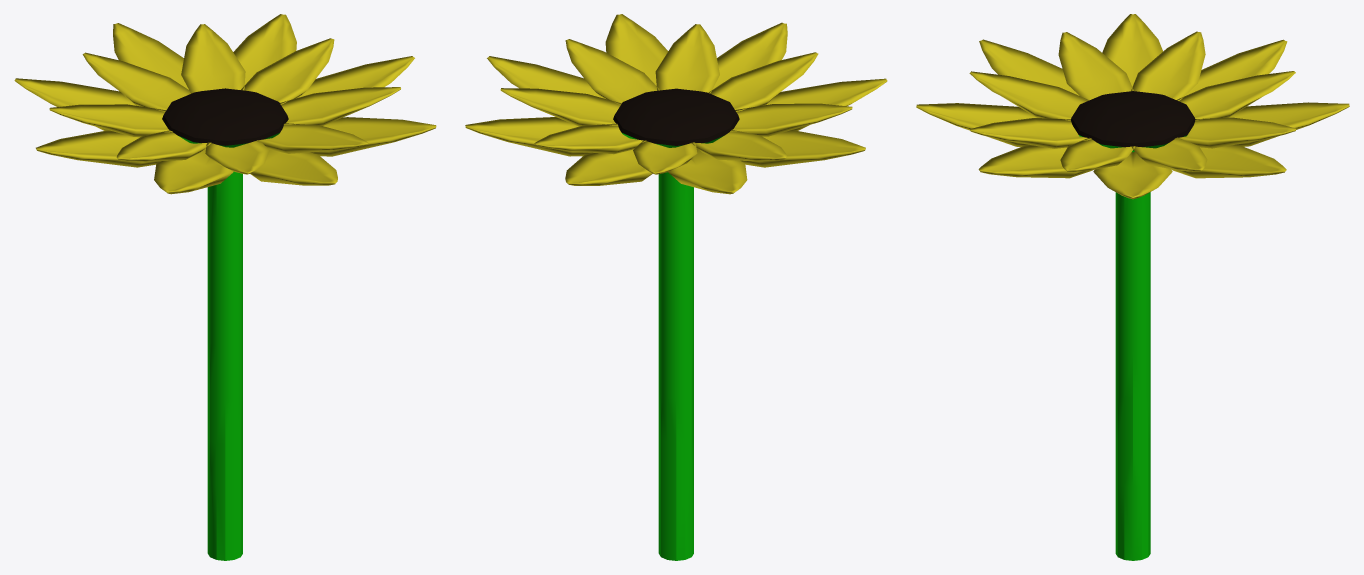
Rendered from flowerneck.obj.
3 renders of one model, left to right at view 1: azimuth 30°, elevation 25°; view 2: azimuth 150°, elevation 25°; view 3: azimuth 270°, elevation 25°, orthographic.
Parts seen in each view (by area): view 1: Zylinder, Blatt.012, Blatt.013, Blatt.011, Blatt.014, Blatt.010, Blatt.003, Blatt.004, Blatt.001, Blatt.007, Blatt.006, Blatt.015 (+5 smaller); view 2: Zylinder, Blatt.015, Blatt.014, Blatt.016, Blatt.013, Blatt.009, Blatt.006, Blatt.007, Blatt.001, Blatt.003, Blatt.004, Blatt.002 (+5 smaller); view 3: Zylinder, Blatt.010, Blatt.009, Blatt.016, Blatt.011, Blatt.012, Blatt.015, Blatt.001, Blatt.006, Blatt.004, Blatt.008, Blatt.002 (+5 smaller).
Boxes of the visible parts, x1=… form: Zylinder: x1=162, y1=88, x2=288, y2=560; Blatt.012: x1=181, y1=24, x2=245, y2=93; Blatt.013: x1=241, y1=38, x2=334, y2=104; Blatt.011: x1=82, y1=52, x2=192, y2=111; Blatt.014: x1=280, y1=87, x2=400, y2=125; Blatt.010: x1=49, y1=104, x2=172, y2=137; Blatt.003: x1=113, y1=23, x2=188, y2=89; Blatt.004: x1=233, y1=14, x2=296, y2=84; Blatt.001: x1=36, y1=130, x2=159, y2=167; Blatt.007: x1=250, y1=149, x2=337, y2=185; Blatt.006: x1=311, y1=117, x2=436, y2=156; Blatt.015: x1=256, y1=123, x2=368, y2=153; Zylinder: x1=613, y1=88, x2=739, y2=560; Blatt.015: x1=655, y1=24, x2=719, y2=93; Blatt.014: x1=565, y1=39, x2=659, y2=104; Blatt.016: x1=708, y1=52, x2=818, y2=111; Blatt.013: x1=500, y1=88, x2=621, y2=126; Blatt.009: x1=730, y1=103, x2=852, y2=136; Blatt.006: x1=605, y1=14, x2=668, y2=85; Blatt.007: x1=712, y1=22, x2=787, y2=89; Blatt.001: x1=740, y1=130, x2=865, y2=167; Blatt.003: x1=565, y1=149, x2=652, y2=185; Blatt.004: x1=465, y1=117, x2=591, y2=156; Blatt.002: x1=668, y1=147, x2=747, y2=194; Zylinder: x1=1071, y1=91, x2=1195, y2=560; Blatt.010: x1=1131, y1=31, x2=1205, y2=100; Blatt.009: x1=1058, y1=32, x2=1133, y2=101; Blatt.016: x1=969, y1=71, x2=1088, y2=120; Blatt.011: x1=1176, y1=71, x2=1295, y2=120; Blatt.012: x1=1175, y1=117, x2=1296, y2=148; Blatt.015: x1=970, y1=118, x2=1091, y2=148; Blatt.001: x1=1102, y1=14, x2=1162, y2=86; Blatt.006: x1=978, y1=145, x2=1092, y2=178; Blatt.004: x1=1171, y1=145, x2=1286, y2=178; Blatt.008: x1=979, y1=39, x2=1079, y2=95; Blatt.002: x1=1185, y1=39, x2=1287, y2=95.
Size of the model in its own units: 4.18 by 4.82 by 4.18.
